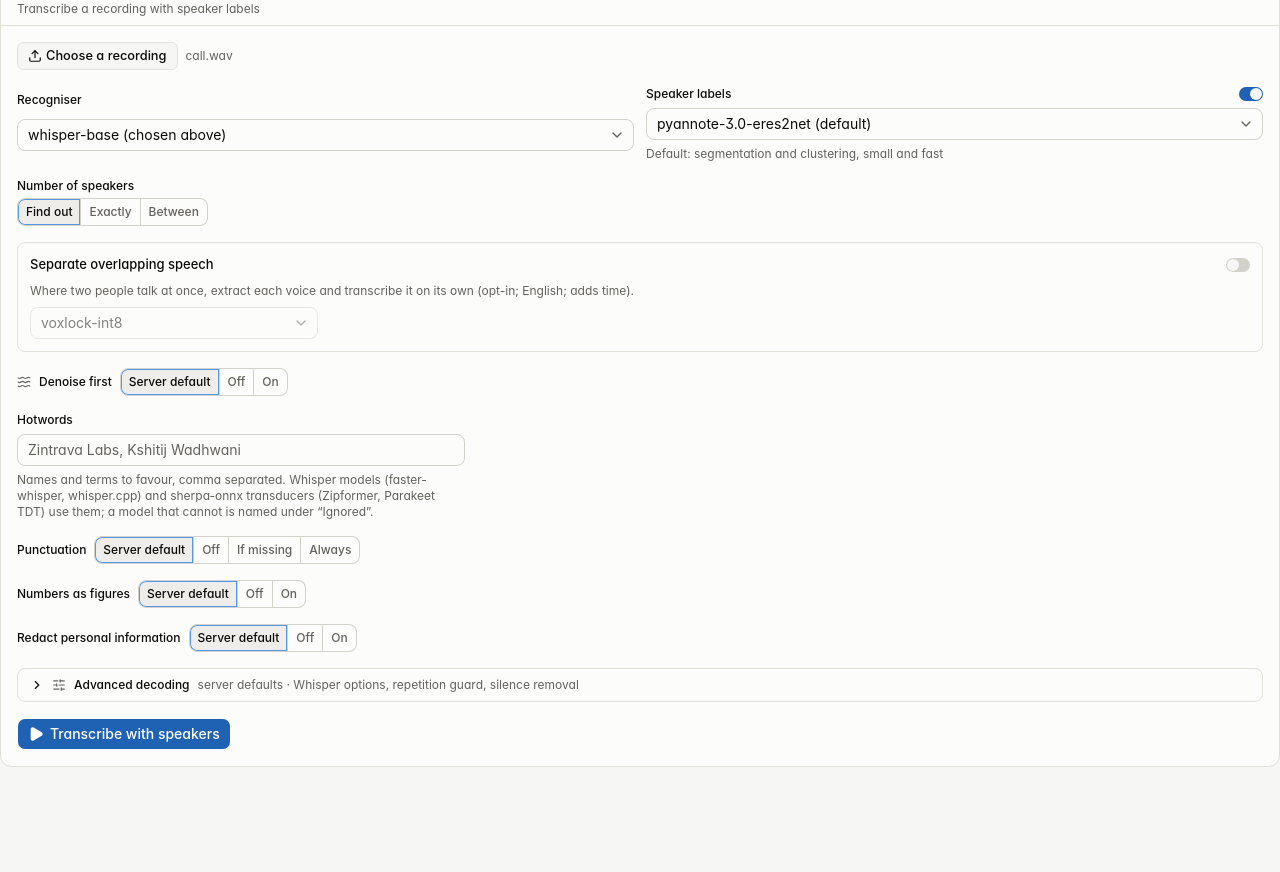
SpeakersPanel › sends the chosen options and shows the speaker-attributed result
Earlier steps of the test are not shown.
Later steps or results of the test are not shown.
Click the radio button labelled "Exactly": (111, 212) [82,198,141,226]
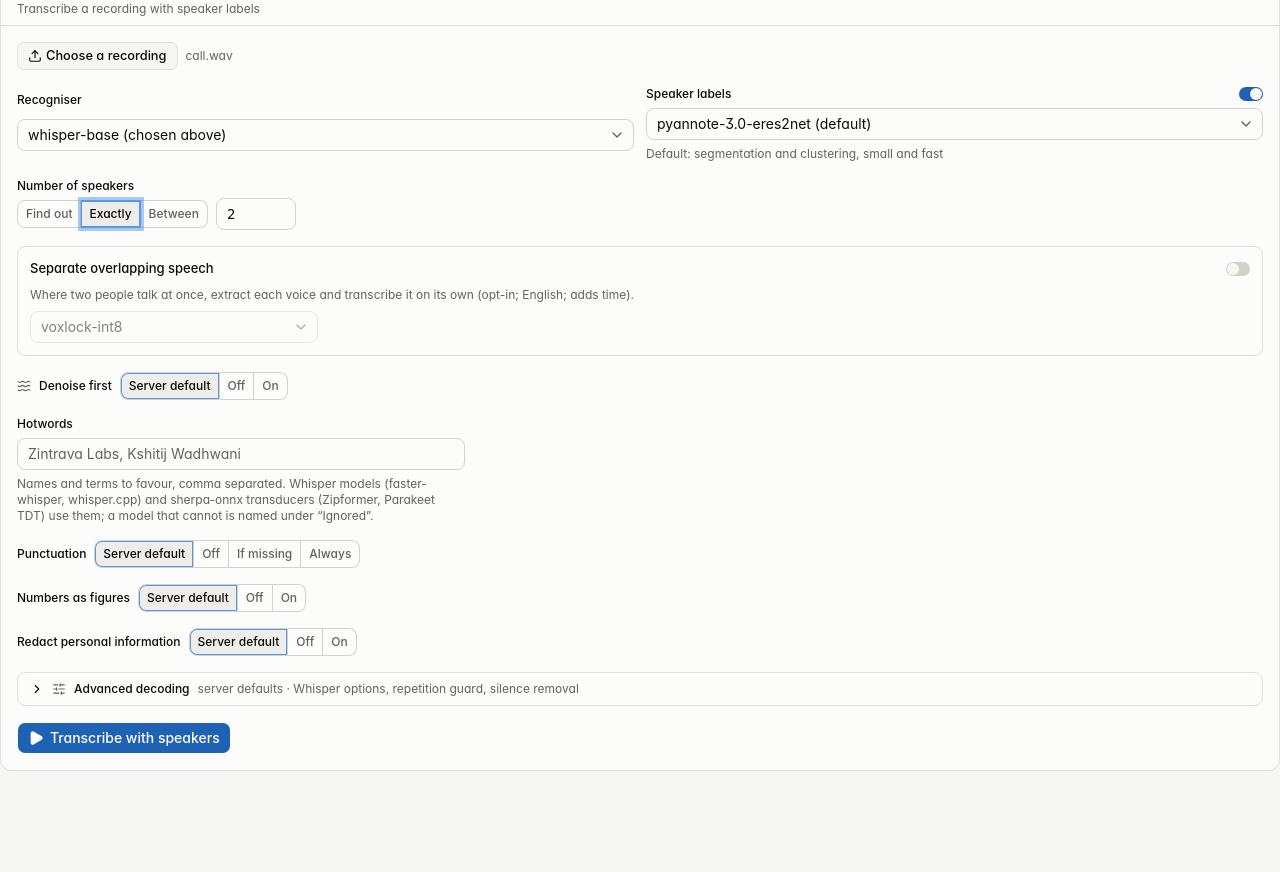
Click the switch with test id "separate-toggle": (1238, 269) [1226,262,1250,276]
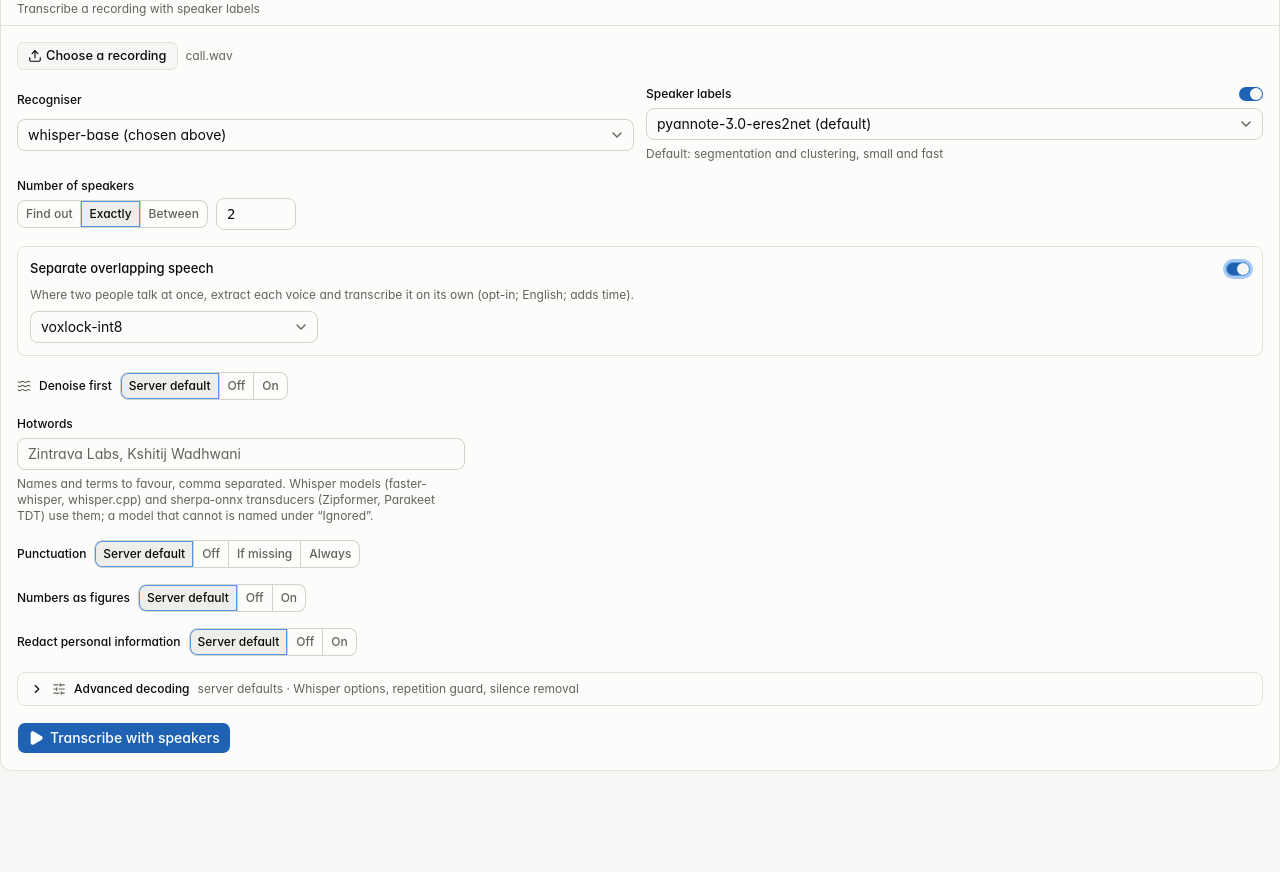
Click the button "Transcribe with speakers": (124, 738) [17,722,231,754]
(page scrolled)
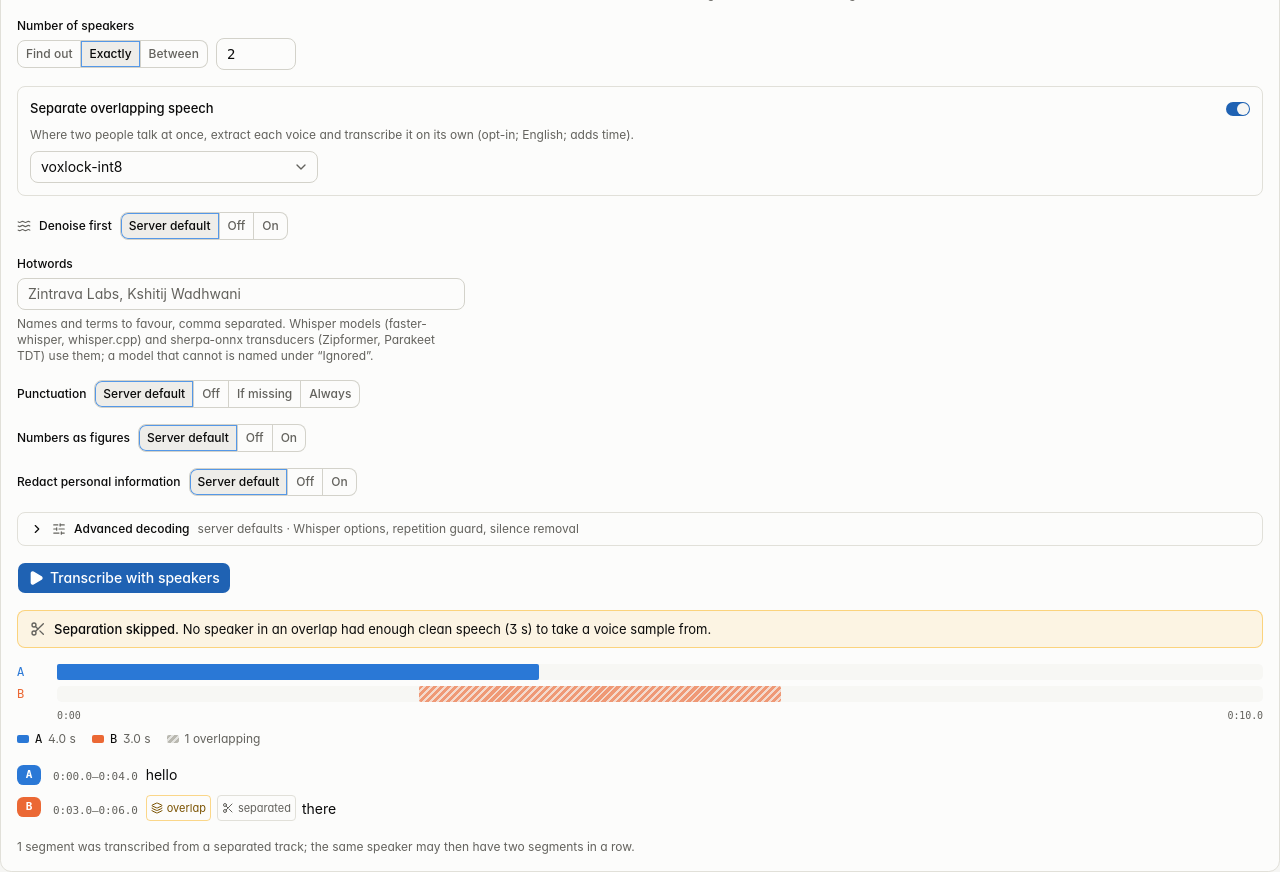
Check: the element with test id "speaker-result" is shown, box [17,610,1263,854]
